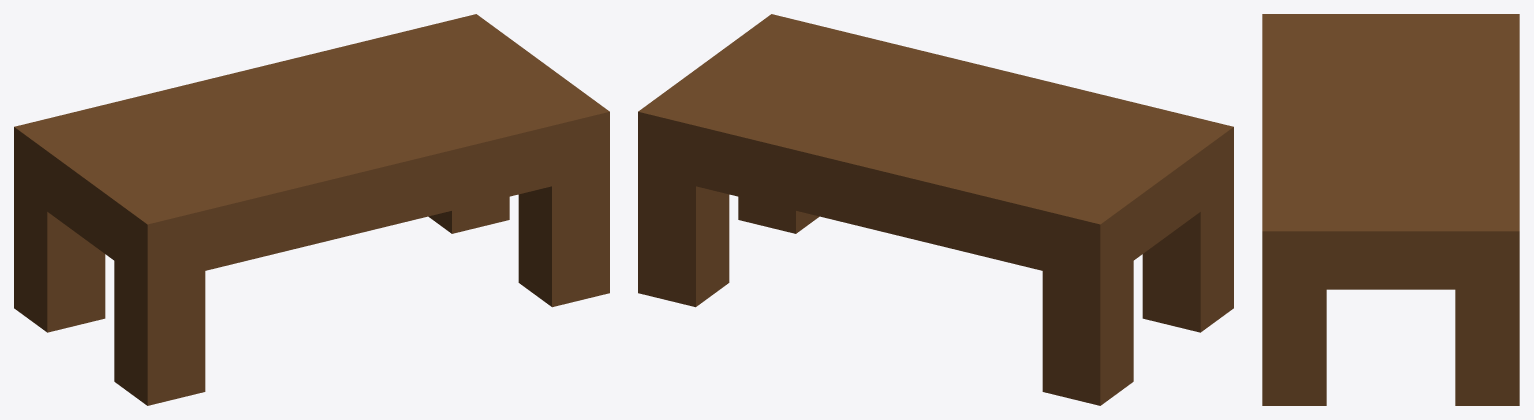
File: Desk.dae
3 renders of one model, left to right at view 1: azimuth 30°, elevation 25°; view 2: azimuth 150°, elevation 25°; view 3: azimuth 270°, elevation 25°, orthographic. The views are drawn at different scales.
Visible parts, largest first — view 1: Desk; view 2: Desk; view 3: Desk.
Part boxes in pixels (x1,y1,x2,y2): Desk: (14, 14, 609, 405); Desk: (638, 14, 1233, 405); Desk: (1262, 14, 1519, 405).
Size of the model in its own units: 8 by 3 by 4.
1 material, 1 textured.
